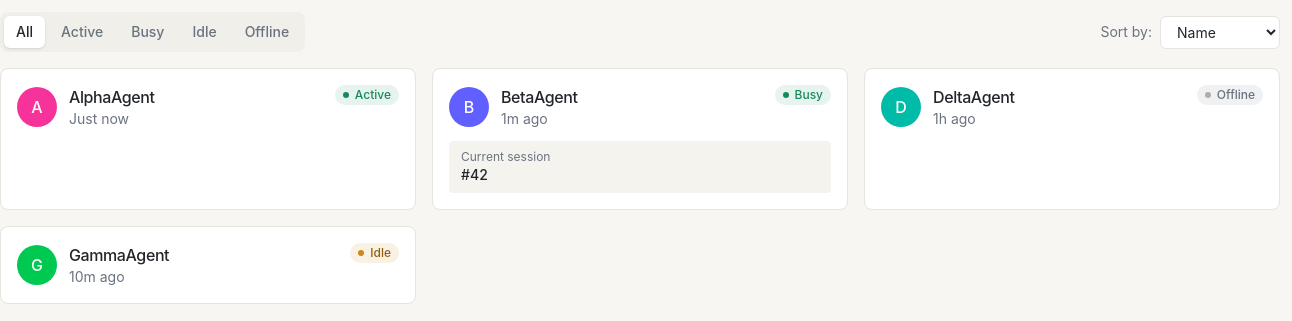
Test case: AgentCardGrid › filters to busy agents
Click the button "Busy".
click(148, 32)  # box [119,16,176,48]
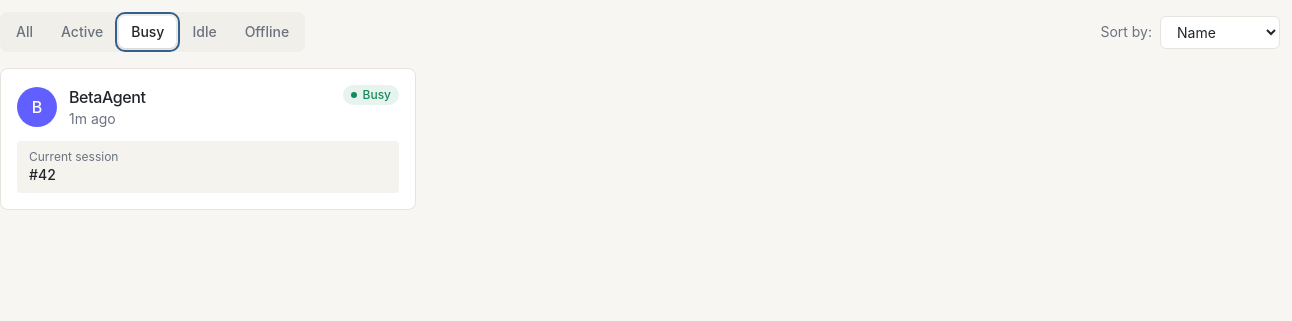
Expected: the heading "BetaAgent" is shown, [69,87,146,107]
Now the heading "AlphaAgent" is gone
